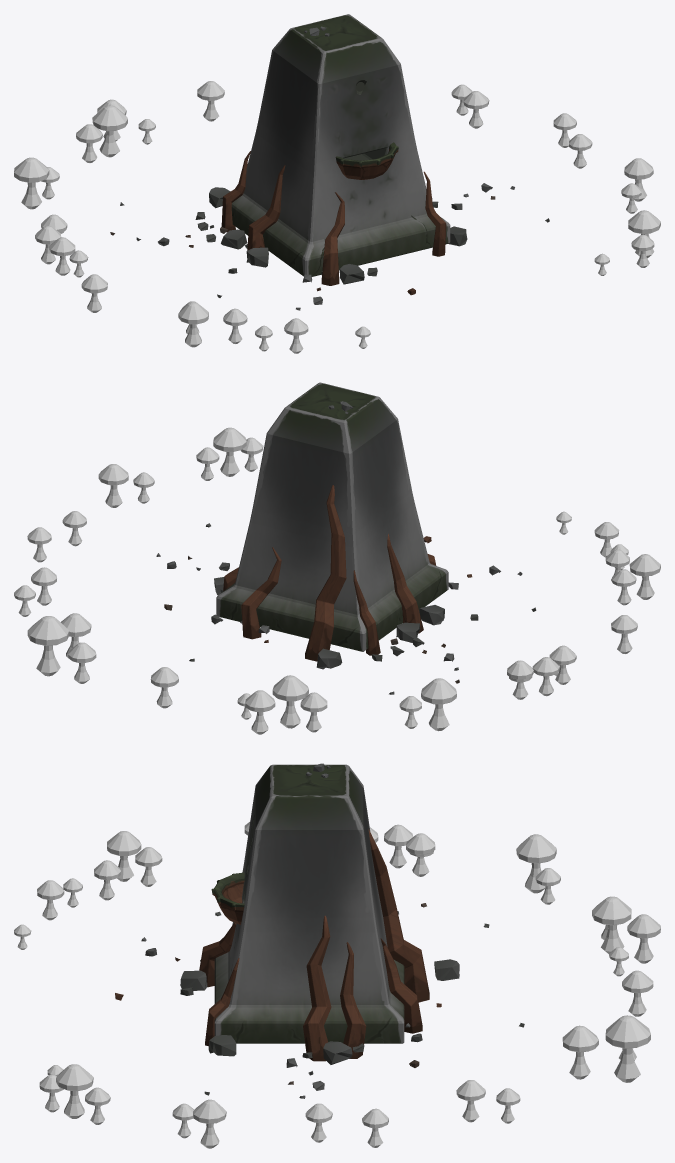
Rendered from statue_green.fbx.
The picture shows the model from 3 angles, top to bottom: view 1: azimuth 30°, elevation 25°; view 2: azimuth 150°, elevation 25°; view 3: azimuth 270°, elevation 25°; orthographic projection. The views are drawn at different scales.
Parts seen in each view (by area): view 1: statue green; view 2: statue green; view 3: statue green.
Part boxes in pixels (<box>): statue green: <box>14,14,660,353</box>; statue green: <box>14,382,660,734</box>; statue green: <box>14,763,660,1148</box>.
Size of the model in its own units: 349 by 385 by 143.
